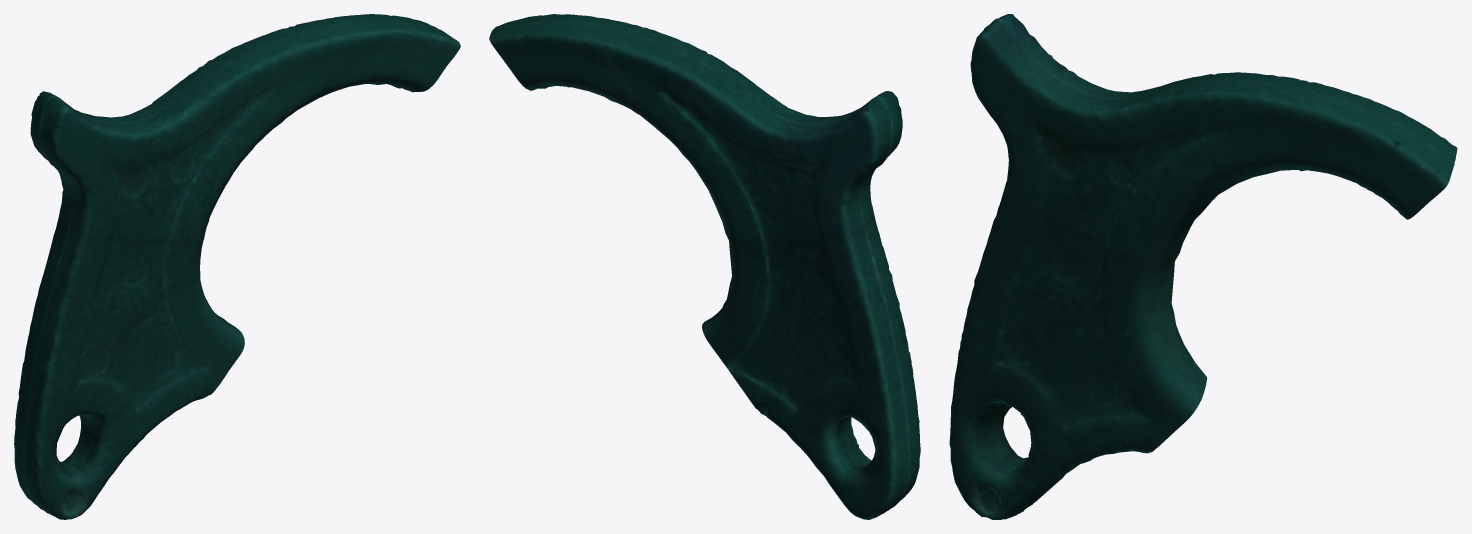
3 views of the same model, side by side, from view 1: azimuth 30°, elevation 25°; view 2: azimuth 150°, elevation 25°; view 3: azimuth 330°, elevation 25° (orthographic). The views are drawn at different scales.
Parts seen in each view (by area): view 1: Mesh_0.004; view 2: Mesh_0.004; view 3: Mesh_0.004.
Boxes of the visible parts, x1,y1,x2,y2 form: Mesh_0.004: (14, 14, 460, 519); Mesh_0.004: (489, 14, 920, 519); Mesh_0.004: (949, 14, 1457, 519).
Size of the model in its own units: 0.0343 by 0.0325 by 0.00419.
1 material, 1 textured.
